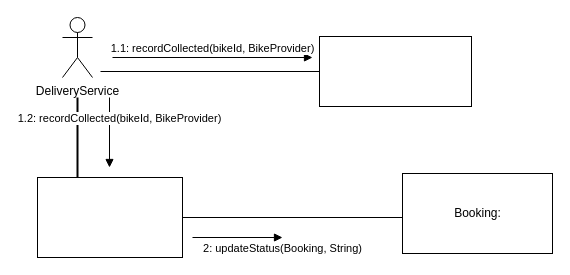
This 570x275 diagram has some shape labels left out. Here are the shapes that lost their labels. From the top down, the centre of each, then its label:
At point 395,71: "Bike".
At point 109,217: "BikeProvider".
